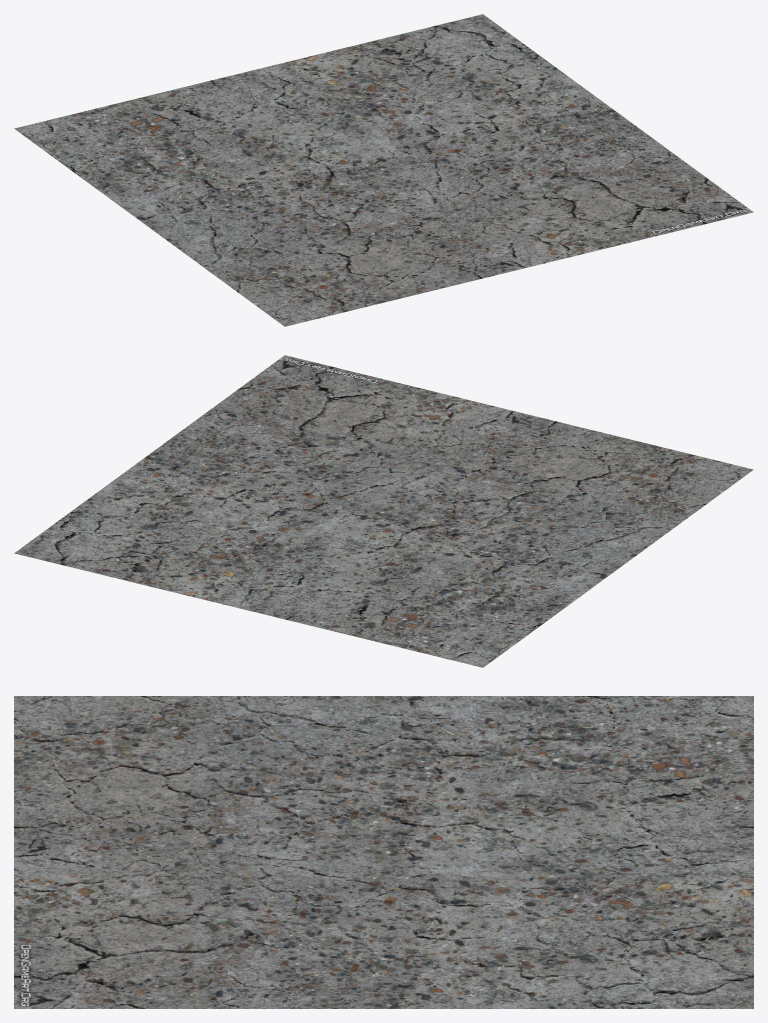
File: water.obj
3 views of the same model, one above another, from view 1: azimuth 30°, elevation 25°; view 2: azimuth 150°, elevation 25°; view 3: azimuth 270°, elevation 25° (orthographic). The views are drawn at different scales.
Visible parts, largest first — view 1: ground; view 2: ground; view 3: ground.
Part boxes in pixels (left/top/right/bottom): ground: left=14, top=14, right=753, bottom=326; ground: left=14, top=355, right=753, bottom=667; ground: left=14, top=696, right=753, bottom=1008.
Size of the model in its own units: 20 by 4e-06 by 20.
1 material, 1 textured.
